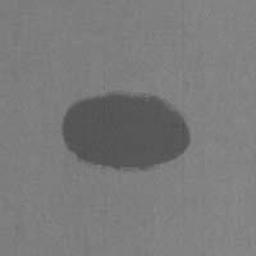Oil spot: (62, 93, 190, 170)
